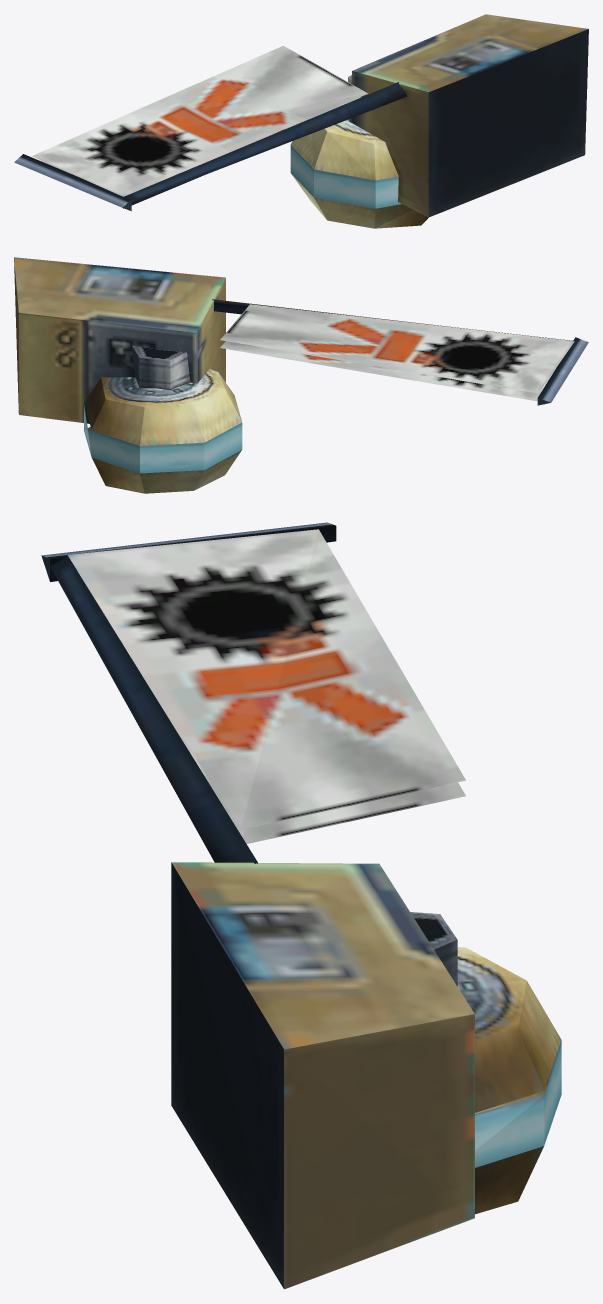
The model's file is SHOSEPACK_H.obj.
The picture shows the model from 3 angles, top to bottom: view 1: azimuth 30°, elevation 25°; view 2: azimuth 150°, elevation 25°; view 3: azimuth 270°, elevation 25°; orthographic projection. The views are drawn at different scales.
Parts seen in each view (by area): view 1: Node 0; view 2: Node 0; view 3: Node 0.
Boxes of the visible parts, box(x1,y1,x2,y2) form: Node 0: box(14, 14, 588, 228); Node 0: box(14, 257, 588, 493); Node 0: box(41, 522, 561, 1289).
Size of the model in its own units: 1.46 by 0.43 by 0.6.
Materials: 1 (1 with a texture image).
